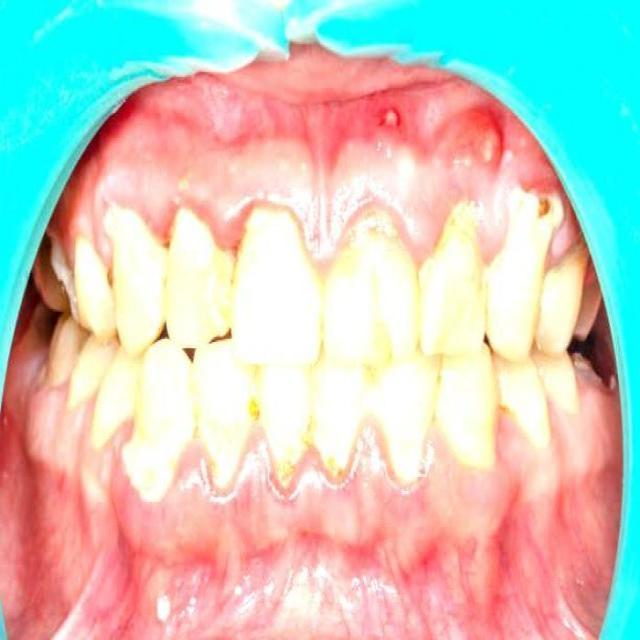CALCULUS: (247, 371, 268, 422), (275, 454, 293, 487), (537, 194, 556, 224), (332, 464, 351, 485), (234, 236, 238, 299)
